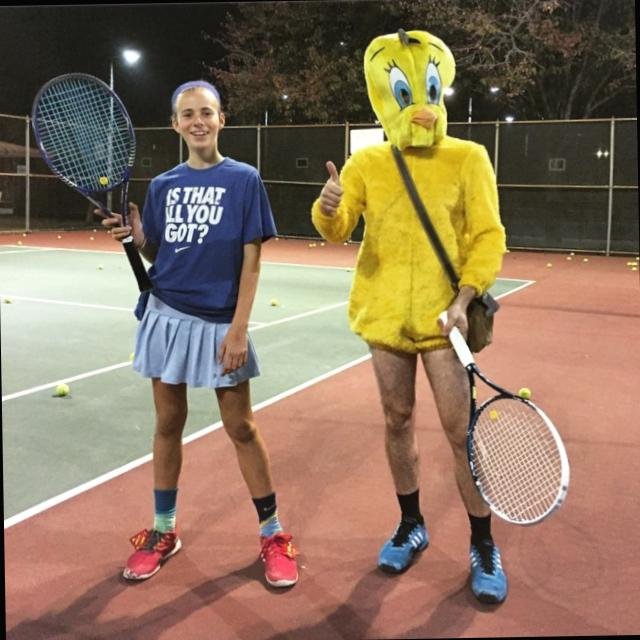Tennis ball: (514, 384, 532, 401), (54, 380, 74, 394)
